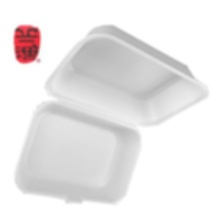foam_box: (10, 21, 212, 210)
